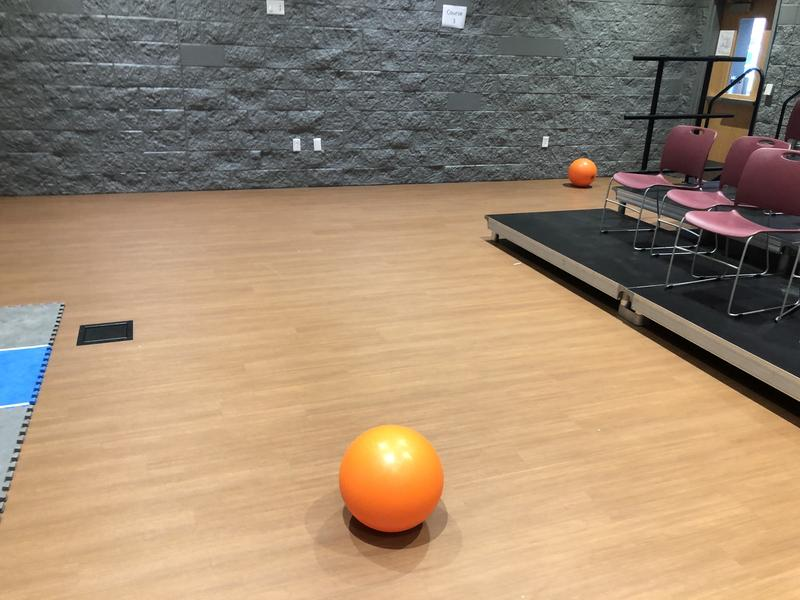ball: (340, 425, 444, 529), (569, 157, 598, 187)
